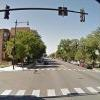Tree: (9, 22, 54, 67)
